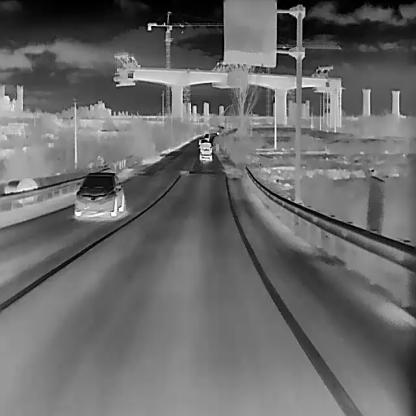car: (74, 170, 124, 218), (198, 140, 213, 161), (198, 135, 204, 143), (204, 132, 209, 139), (216, 130, 218, 133)
